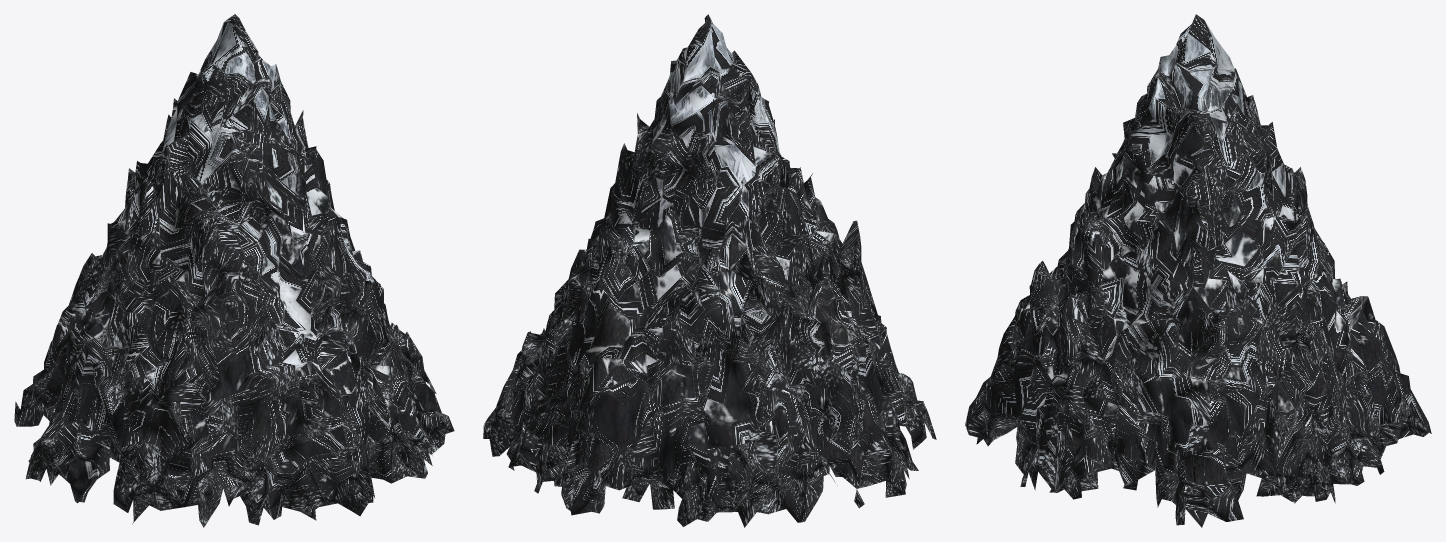
The model's file is mountain.glb.
The picture shows the model from 3 angles, left to right: view 1: azimuth 30°, elevation 25°; view 2: azimuth 150°, elevation 25°; view 3: azimuth 270°, elevation 25°; orthographic projection.
Size of the model in its own units: 1.84 by 1.88 by 1.87.
Materials: 1 (1 with a texture image).
